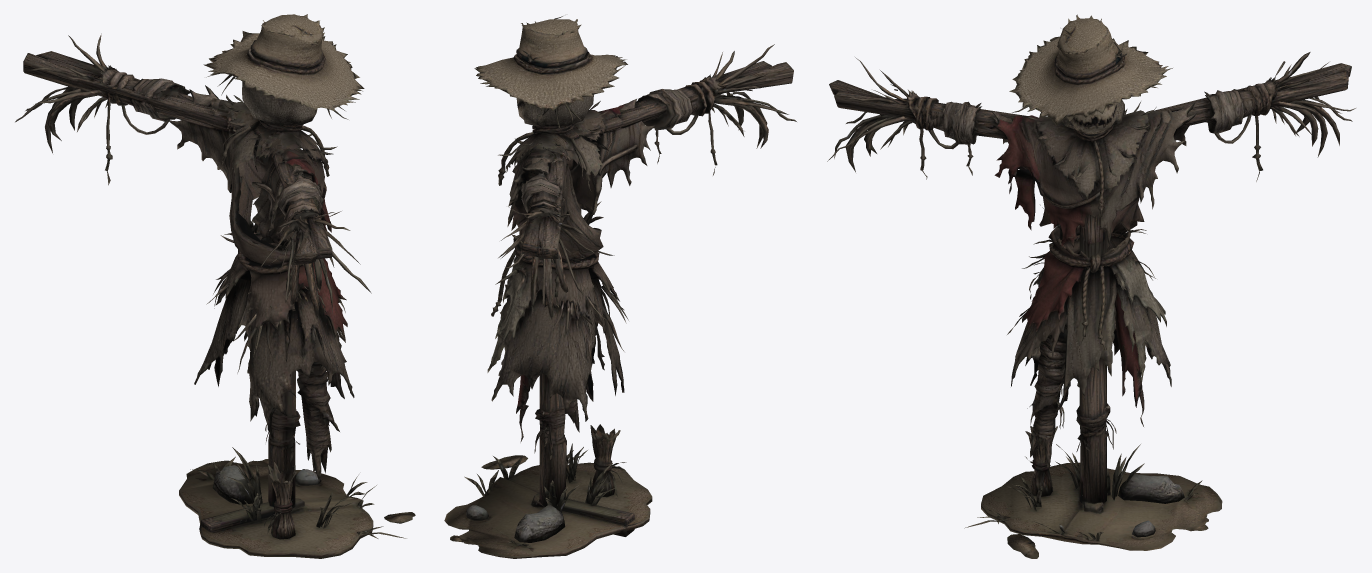
Rendered from e400aa55-aa4f-4418-b012-55dcbca19119_model.glb.
The picture shows the model from 3 angles, left to right: view 1: azimuth 30°, elevation 25°; view 2: azimuth 150°, elevation 25°; view 3: azimuth 270°, elevation 25°; orthographic projection. The views are drawn at different scales.
Visible parts, largest first — view 1: tripo_node_e400aa55-aa4f-4418-b012-55dcbca19119; view 2: tripo_node_e400aa55-aa4f-4418-b012-55dcbca19119; view 3: tripo_node_e400aa55-aa4f-4418-b012-55dcbca19119.
Part boxes in pixels (box(x1,y1,x2,y2)): tripo_node_e400aa55-aa4f-4418-b012-55dcbca19119: box(15, 14, 415, 558); tripo_node_e400aa55-aa4f-4418-b012-55dcbca19119: box(444, 16, 796, 558); tripo_node_e400aa55-aa4f-4418-b012-55dcbca19119: box(827, 14, 1355, 558).
Bounding box in the file's own units: 0.9429 × 1.8 × 1.77.
Materials: 1 (1 with a texture image).
